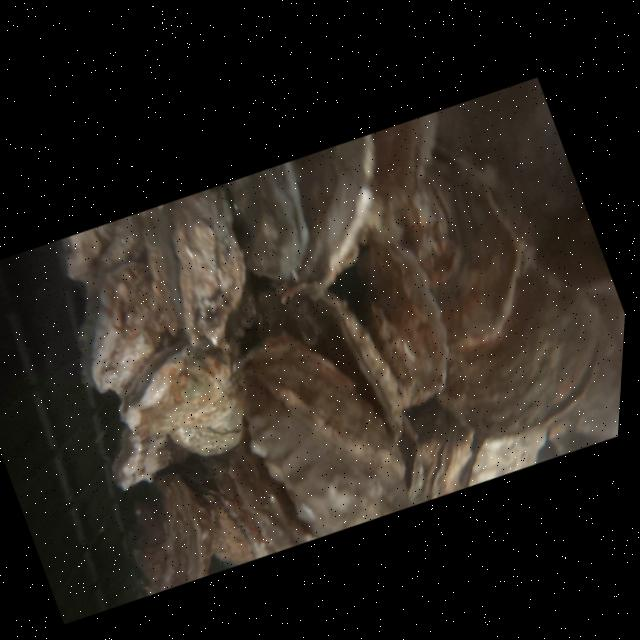Oyster-Closed: (51, 251, 196, 414), (309, 279, 431, 461), (185, 476, 269, 577), (383, 107, 460, 190)
Oyster-Indeterminate: (212, 309, 430, 560), (252, 124, 421, 301), (134, 176, 285, 362), (103, 322, 269, 490), (339, 226, 477, 414), (106, 462, 225, 602)
Oyster-Open: (418, 245, 628, 462), (212, 153, 334, 292), (382, 397, 492, 513), (388, 171, 481, 294)
